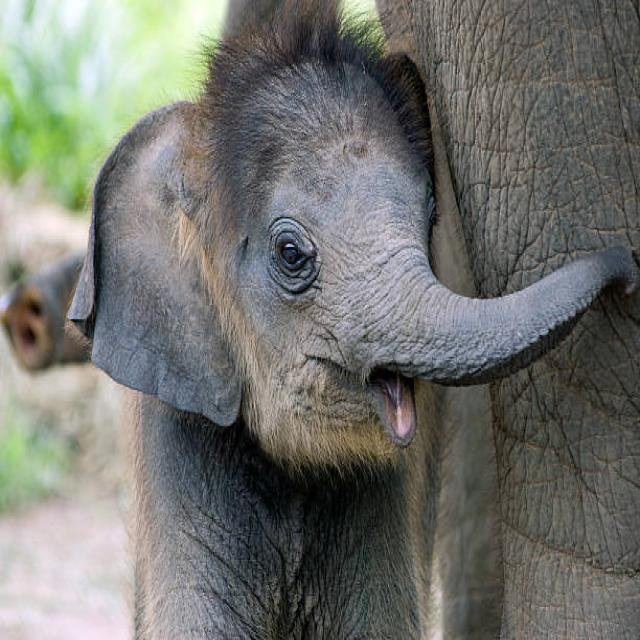Elephant: (68, 42, 530, 640)
